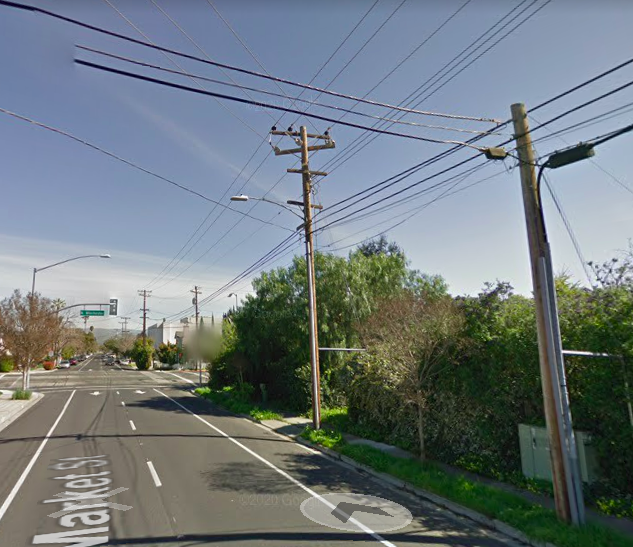utility_pole: (262, 115, 339, 216)
